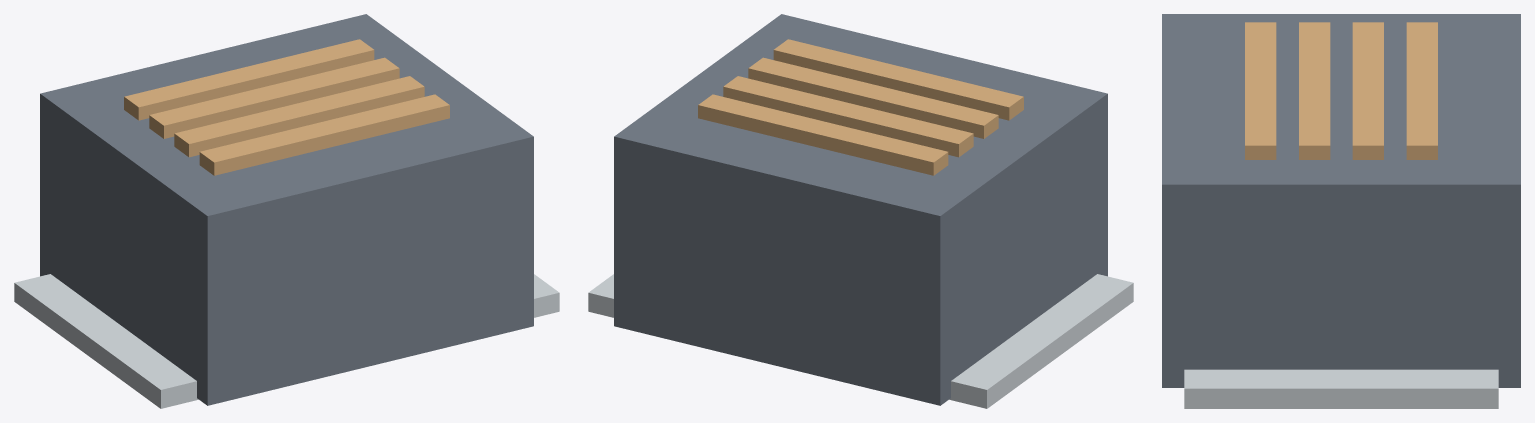
3 views of the same model, side by side, from view 1: azimuth 30°, elevation 25°; view 2: azimuth 150°, elevation 25°; view 3: azimuth 270°, elevation 25° (orthographic). The views are drawn at different scales.
Visible parts, largest first — view 1: 0000__PSMAT__magnetic_core, 0005__PSMAT__tin, 0004__PSMAT__copper, 0002__PSMAT__copper, 0001__PSMAT__copper, 0003__PSMAT__copper, 0006__PSMAT__tin; view 2: 0000__PSMAT__magnetic_core, 0005__PSMAT__tin, 0001__PSMAT__copper, 0003__PSMAT__copper, 0004__PSMAT__copper, 0002__PSMAT__copper, 0006__PSMAT__tin; view 3: 0000__PSMAT__magnetic_core, 0006__PSMAT__tin, 0001__PSMAT__copper, 0002__PSMAT__copper, 0003__PSMAT__copper, 0004__PSMAT__copper.
Part boxes in pixels (bbox=[...]): 0000__PSMAT__magnetic_core: bbox=[40, 14, 533, 405]; 0005__PSMAT__tin: bbox=[14, 274, 198, 408]; 0004__PSMAT__copper: bbox=[199, 94, 449, 175]; 0002__PSMAT__copper: bbox=[149, 57, 399, 138]; 0001__PSMAT__copper: bbox=[124, 39, 374, 120]; 0003__PSMAT__copper: bbox=[174, 76, 424, 157]; 0006__PSMAT__tin: bbox=[534, 274, 559, 317]; 0000__PSMAT__magnetic_core: bbox=[614, 14, 1107, 405]; 0005__PSMAT__tin: bbox=[949, 274, 1133, 408]; 0001__PSMAT__copper: bbox=[698, 94, 948, 175]; 0003__PSMAT__copper: bbox=[748, 57, 998, 138]; 0004__PSMAT__copper: bbox=[773, 39, 1023, 120]; 0002__PSMAT__copper: bbox=[723, 76, 973, 157]; 0006__PSMAT__tin: bbox=[588, 274, 613, 317]; 0000__PSMAT__magnetic_core: bbox=[1162, 14, 1520, 387]; 0006__PSMAT__tin: bbox=[1184, 369, 1498, 408]; 0001__PSMAT__copper: bbox=[1406, 22, 1437, 159]; 0002__PSMAT__copper: bbox=[1352, 22, 1383, 159]; 0003__PSMAT__copper: bbox=[1299, 22, 1330, 159]; 0004__PSMAT__copper: bbox=[1245, 22, 1276, 159].
Size of the model in its own units: 0.011 by 0.00543 by 0.008.
